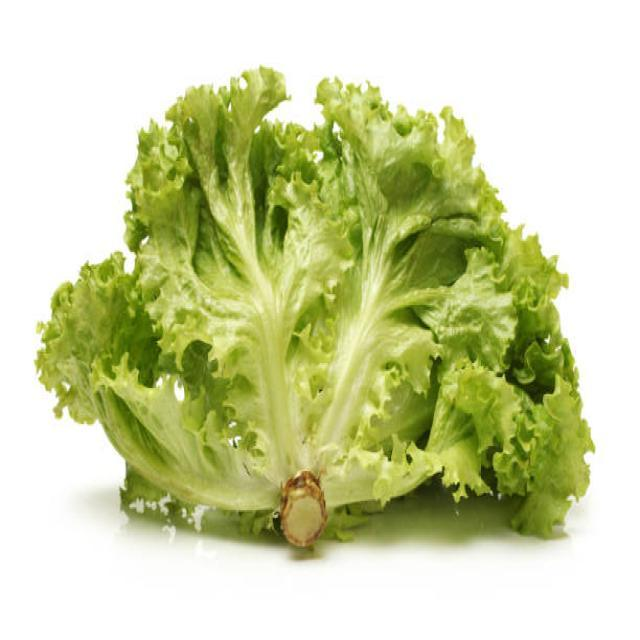Lettuce-Ready-to-Harvest: (32, 62, 589, 553)
